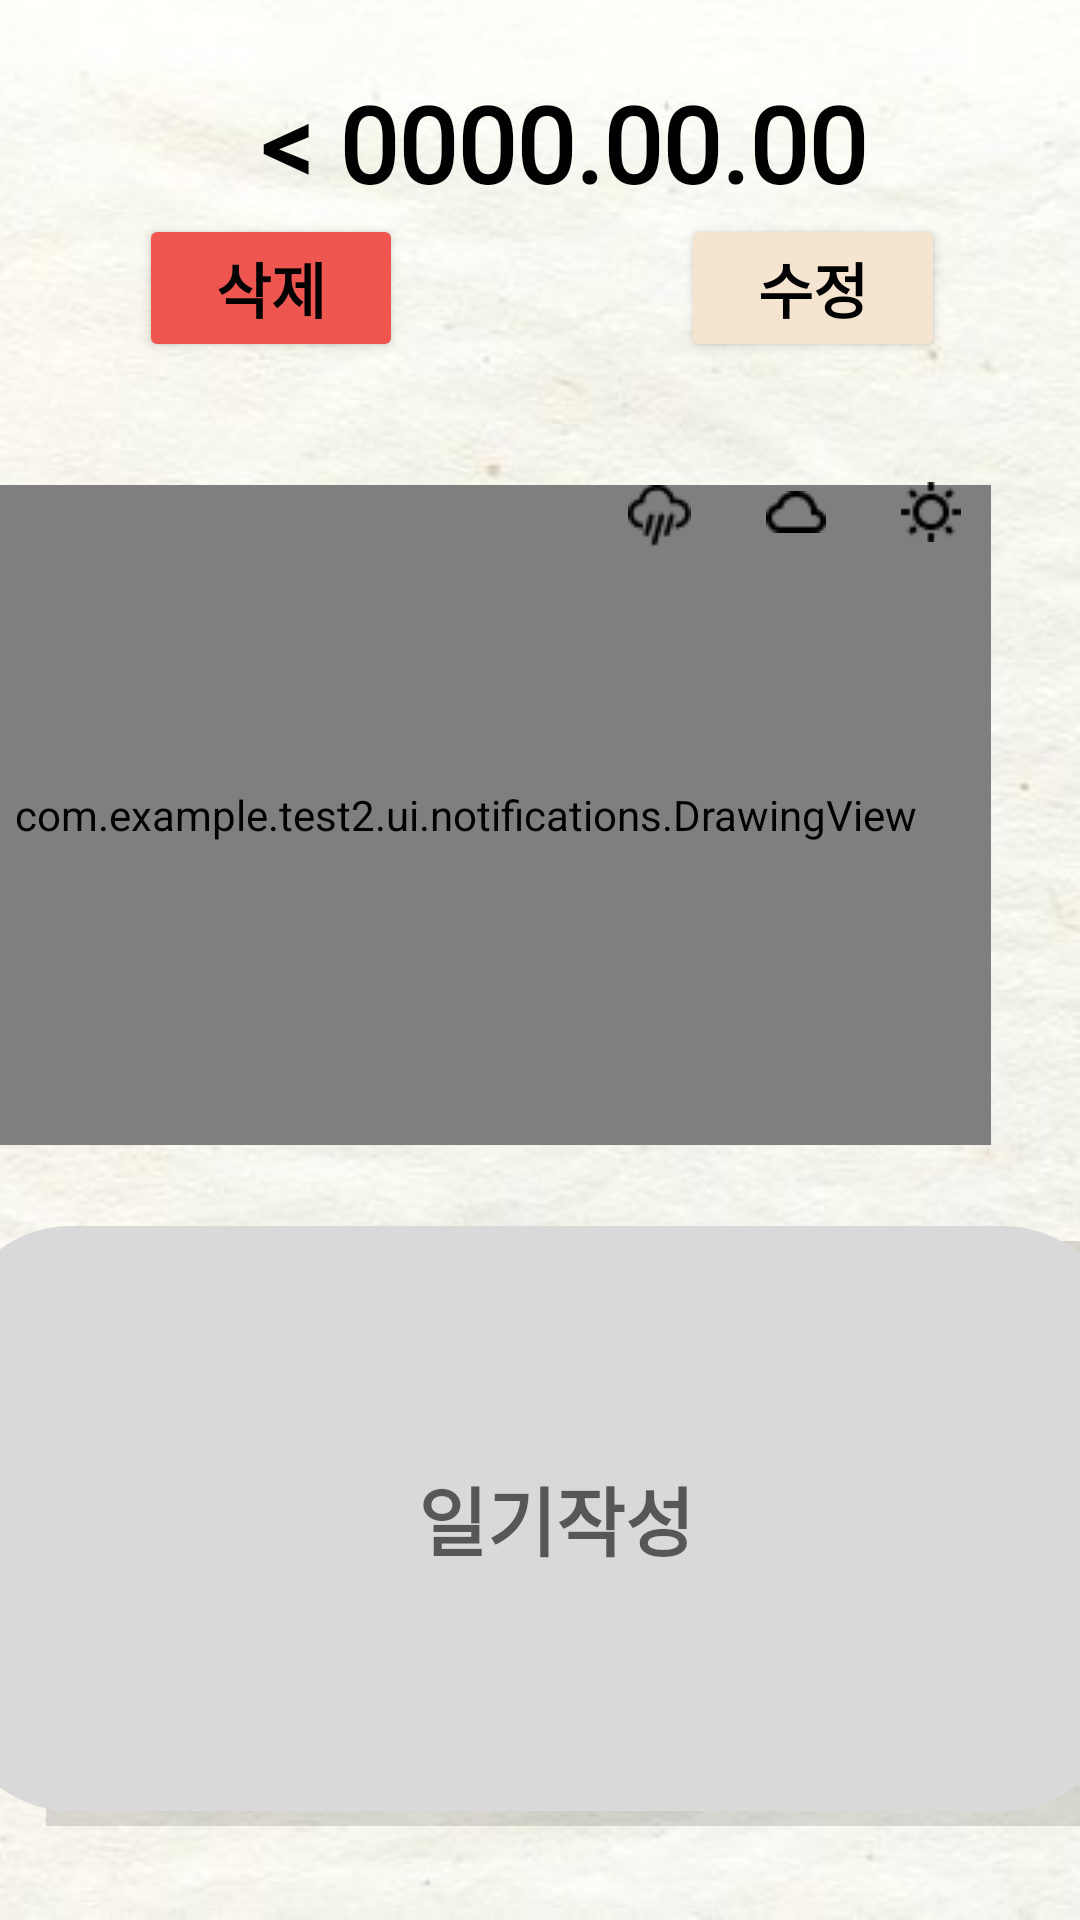

Named icons in this screenshot (1080w x 1920h) and their bounding boxes, (x1, y1, x2, y2):
rain: (628, 485, 691, 546)
sun: (901, 488, 961, 542)
구름: (766, 491, 826, 533)
